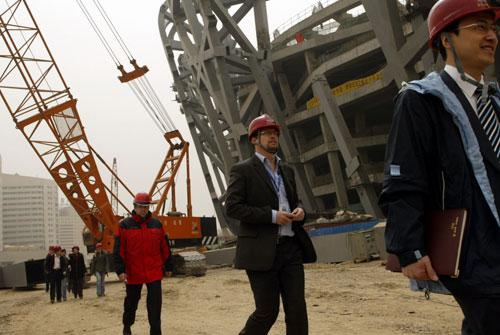helmet: (426, 1, 499, 48), (249, 116, 283, 137), (136, 194, 154, 207), (96, 241, 106, 253), (46, 246, 57, 255), (73, 246, 84, 254), (62, 249, 71, 257), (55, 245, 62, 255)
